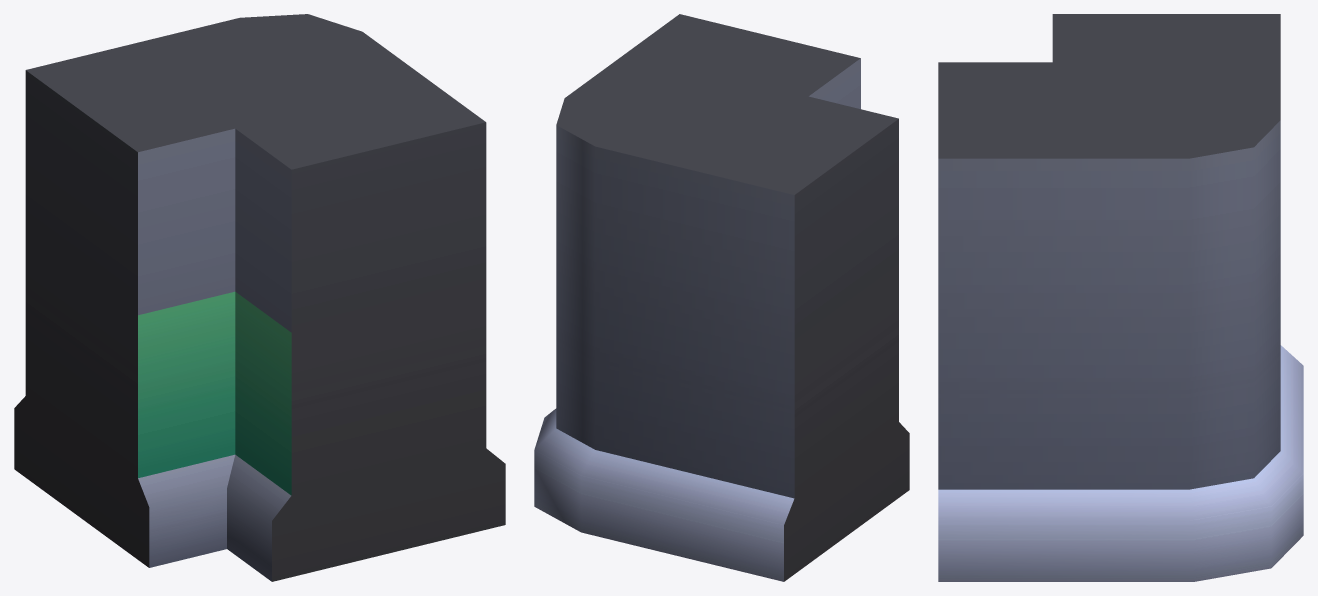
Rendered from store_wall_corner.glb.
3 renders of one model, left to right at view 1: azimuth 30°, elevation 25°; view 2: azimuth 150°, elevation 25°; view 3: azimuth 270°, elevation 25°, orthographic. The views are drawn at different scales.
Visible parts, largest first — view 1: wall-corner; view 2: wall-corner; view 3: wall-corner.
Part boxes in pixels (box(x1,y1,x2,y2)): wall-corner: box(14, 14, 505, 581); wall-corner: box(534, 14, 909, 581); wall-corner: box(938, 14, 1303, 581).
Size of the model in its own units: 1.6 by 2 by 1.6.
1 material, 1 textured.
